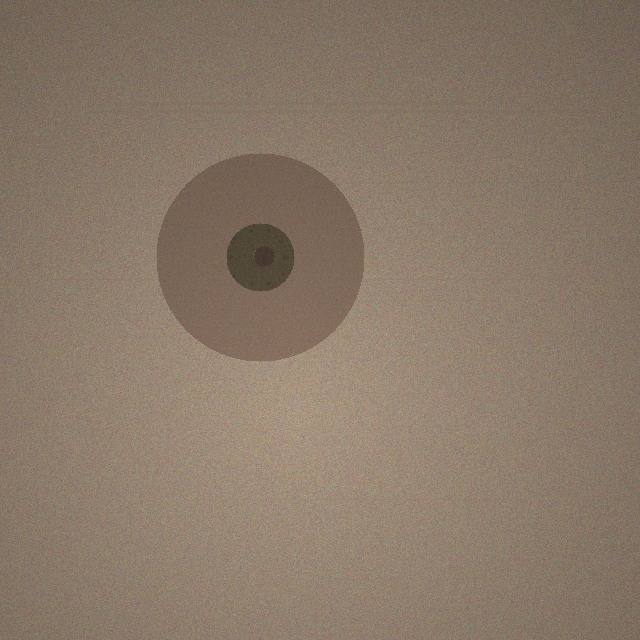cold_weld: (156, 153, 364, 361)
